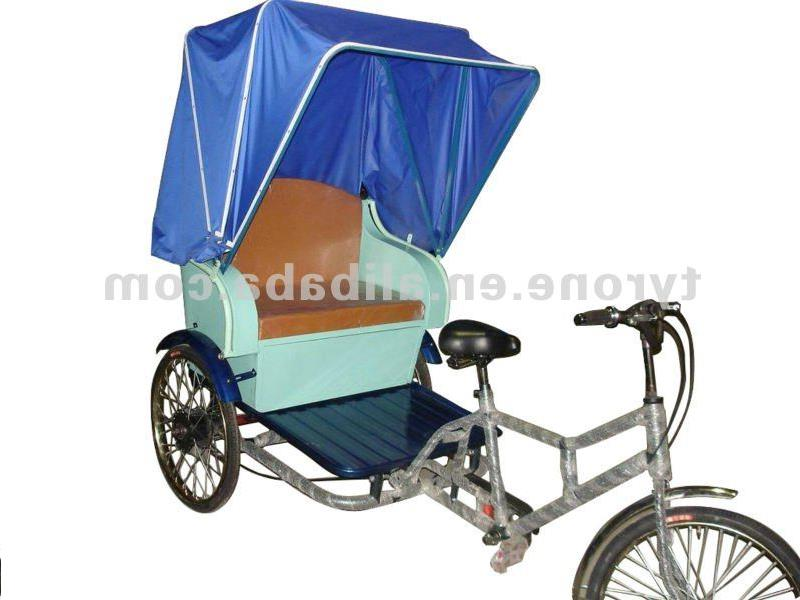Rickshaw: (134, 0, 749, 506)
